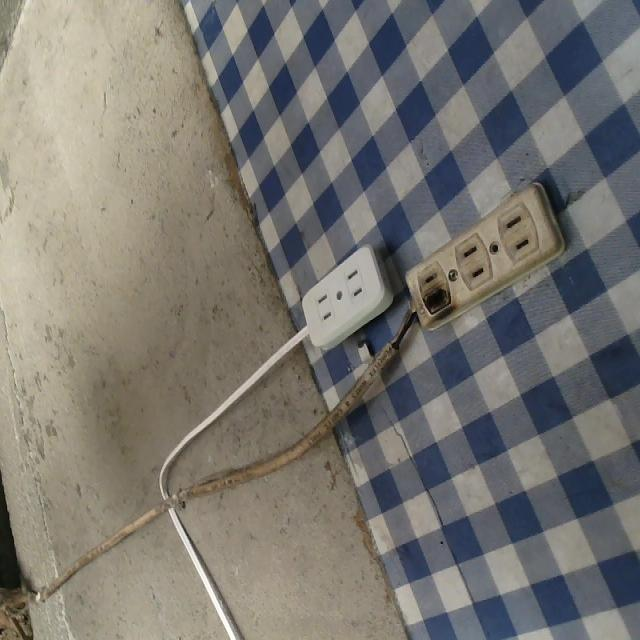-: (417, 276, 454, 319)
